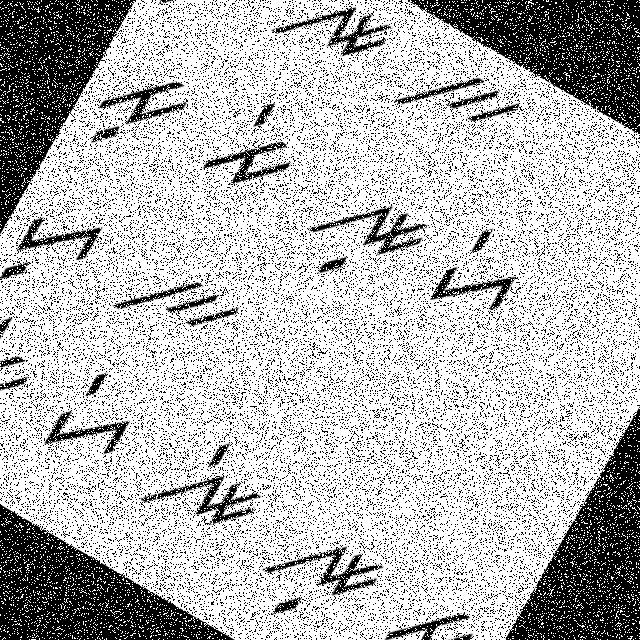he: (24, 350, 154, 482), (416, 208, 542, 339)
hu: (0, 186, 118, 321), (144, 0, 276, 45)
mbe: (193, 82, 318, 214), (0, 296, 56, 430)
mbu: (78, 42, 204, 178), (365, 576, 489, 639)
nde: (134, 411, 285, 560), (262, 0, 414, 93)
ndu: (282, 157, 442, 320), (230, 502, 396, 639)
